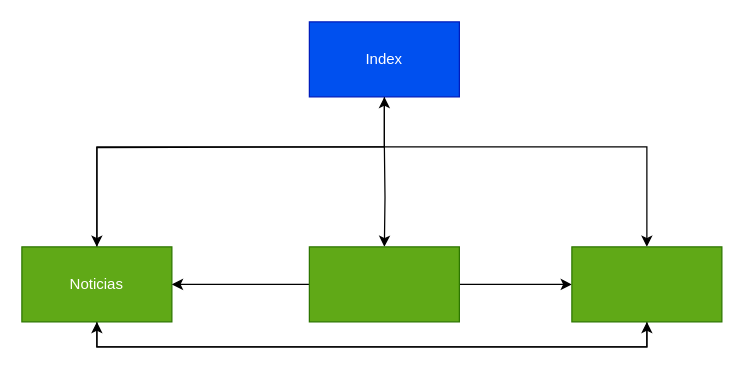
This 744x379 diagram has some shape labels left out. Each missing label, with the box of its shape:
Fútbol: (308, 246, 459, 322)
Partidos: (571, 246, 722, 322)
